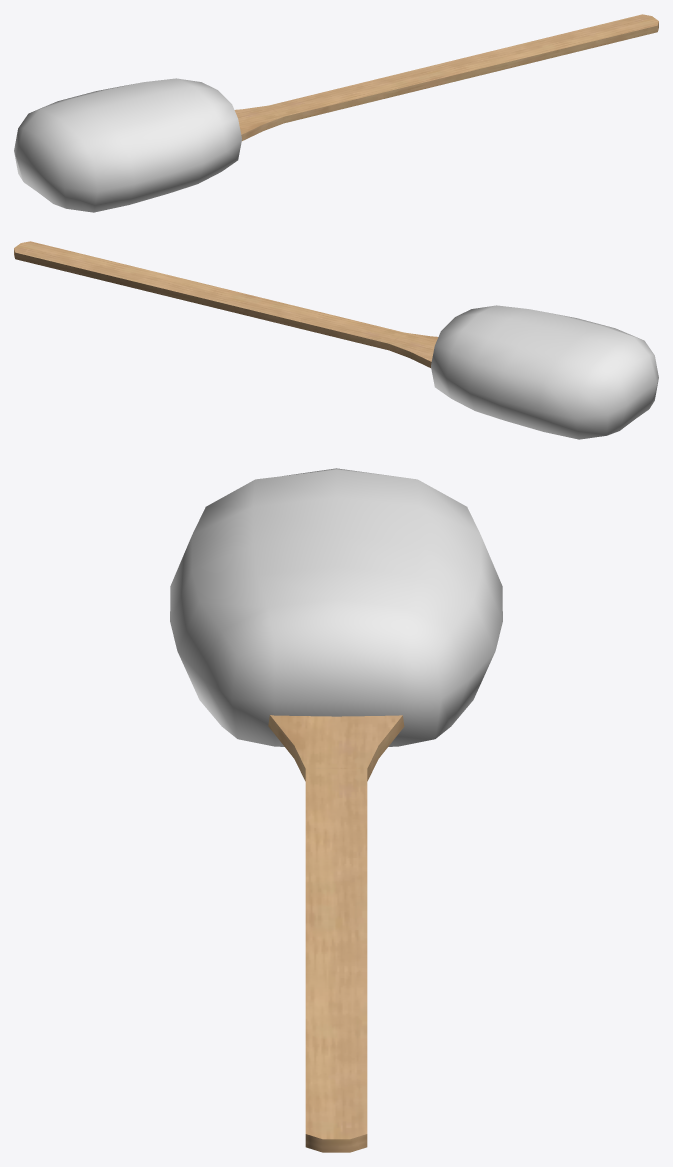
Rendered from blend_OI.fbx.
The picture shows the model from 3 angles, top to bottom: view 1: azimuth 30°, elevation 25°; view 2: azimuth 150°, elevation 25°; view 3: azimuth 270°, elevation 25°; orthographic projection. The views are drawn at different scales.
Parts seen in each view (by area): view 1: 立方體.001, Stir_stick; view 2: 立方體.001, Stir_stick; view 3: 立方體.001, Stir_stick.
Part boxes in pixels (x1,y1,x2,y2): 立方體.001: (14,78,241,212); Stir_stick: (234,14,658,140); 立方體.001: (431,305,658,439); Stir_stick: (14,241,438,367); 立方體.001: (170,468,502,746); Stir_stick: (268,715,404,1152).
Size of the model in its own units: 9.84 by 2.27 by 1.17.
